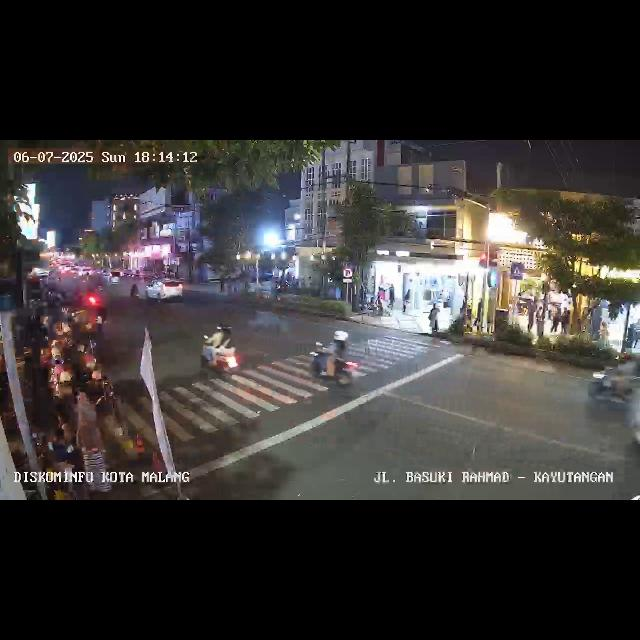car: (144, 278, 186, 304)
motorcycle: (307, 330, 363, 390), (586, 355, 638, 409), (200, 324, 240, 380), (128, 280, 140, 300)
person: (75, 399, 113, 493), (560, 306, 572, 336), (536, 306, 546, 342), (428, 302, 439, 334), (629, 318, 640, 348), (550, 304, 560, 336), (474, 298, 484, 330), (402, 288, 412, 314), (525, 302, 533, 334), (600, 318, 610, 342), (388, 282, 396, 310)
